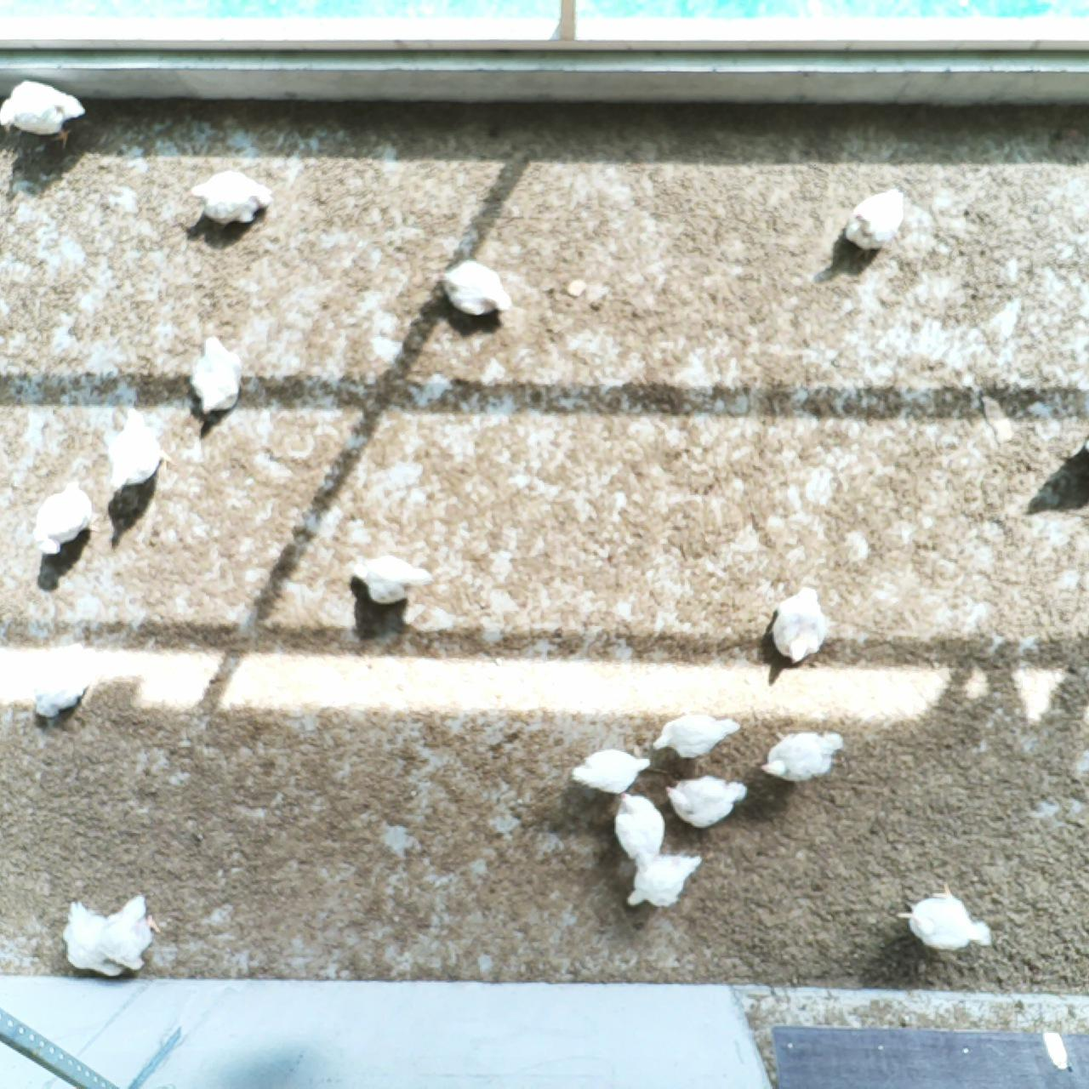chicken: (894, 876, 996, 956), (101, 406, 182, 496), (23, 637, 102, 725), (0, 76, 88, 154), (28, 476, 106, 562), (759, 582, 835, 669), (59, 898, 130, 984), (97, 888, 168, 974), (756, 723, 844, 790), (664, 769, 750, 836), (185, 165, 275, 229), (433, 257, 517, 325), (345, 549, 435, 611), (188, 333, 248, 419), (610, 787, 669, 874), (647, 710, 742, 763), (626, 850, 707, 912), (841, 184, 909, 256), (567, 746, 657, 798)
